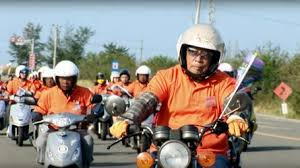helmet: (175, 25, 225, 78), (52, 60, 82, 91)
